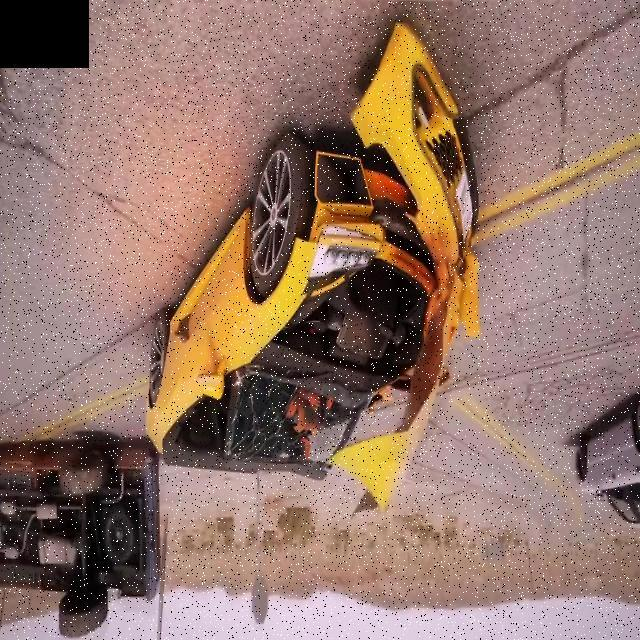severe: (140, 25, 483, 524), (2, 432, 165, 638)
